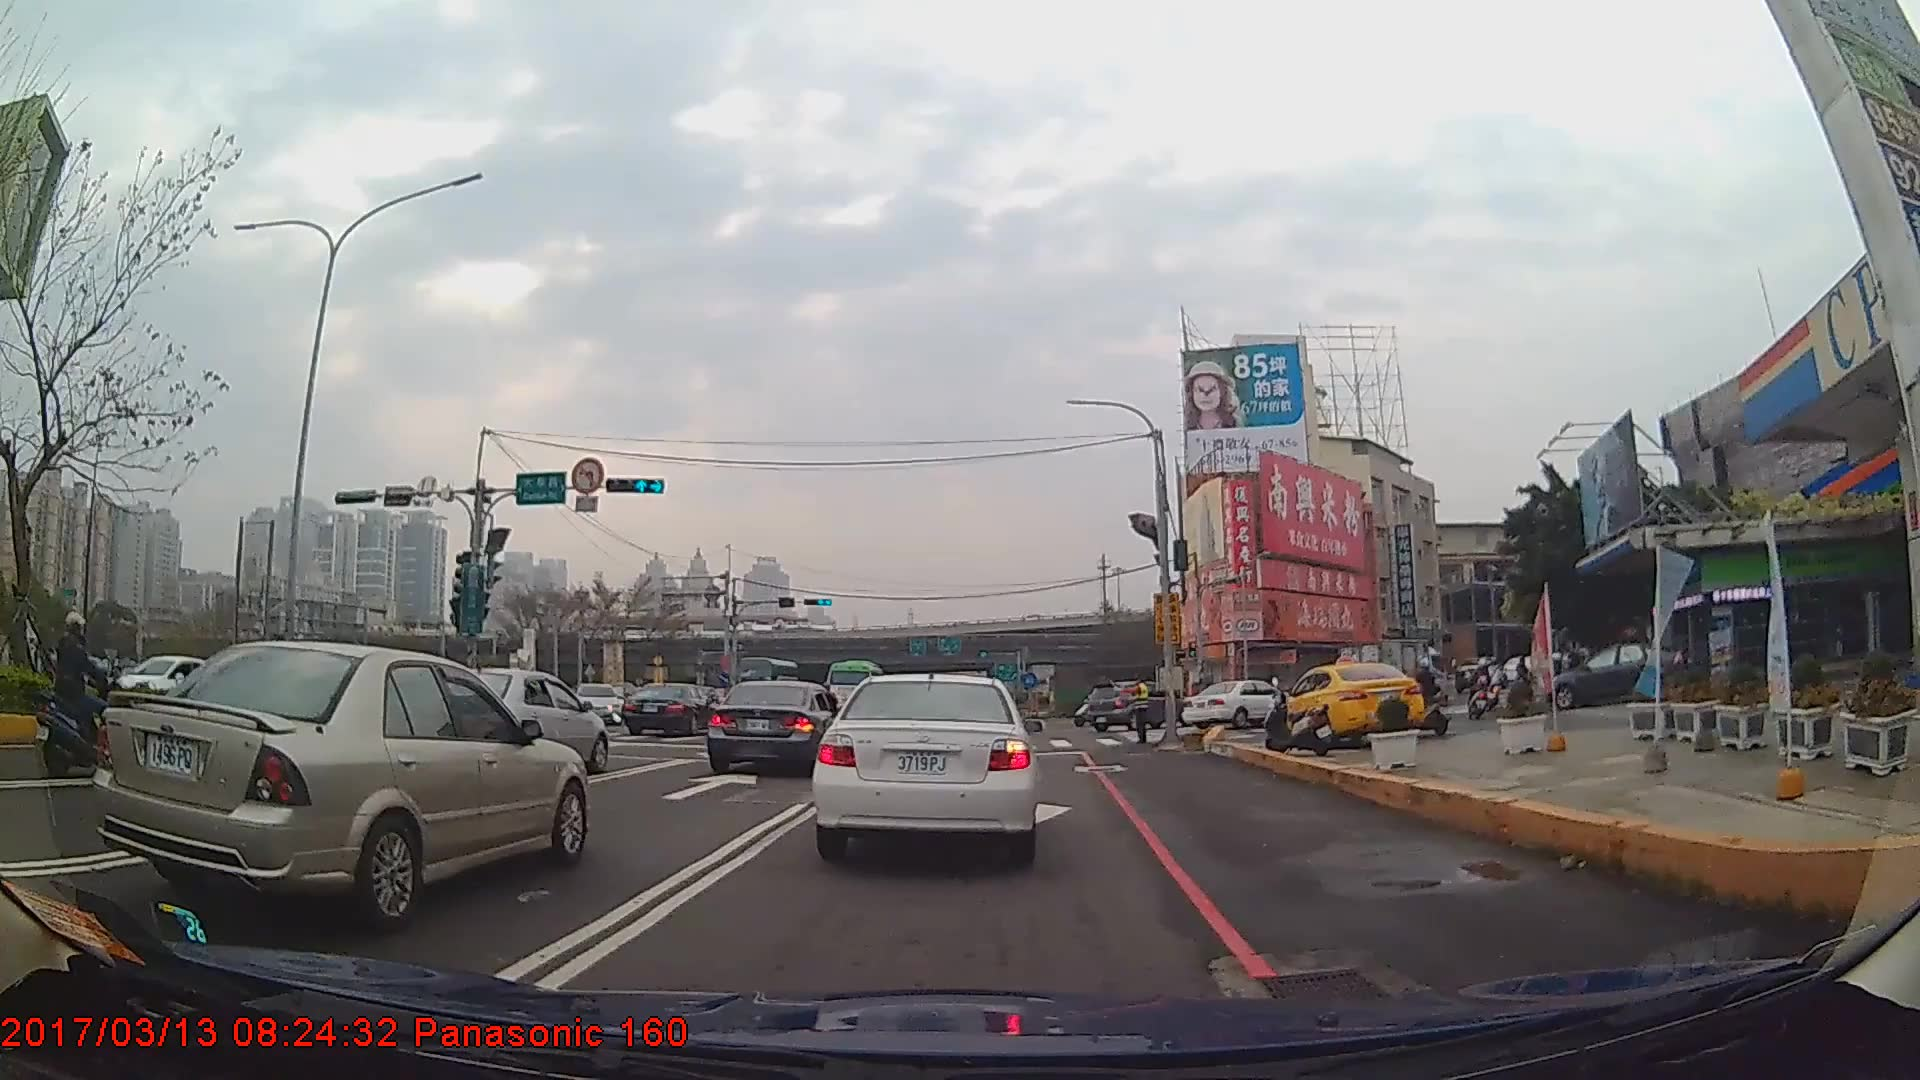pedestrian: (1114, 674, 1153, 746)
rider: (35, 614, 132, 779), (1408, 662, 1450, 740), (1468, 658, 1492, 720)
vehicle: (98, 640, 590, 925), (814, 666, 1038, 862), (420, 668, 608, 776), (703, 677, 845, 778), (1277, 659, 1426, 748), (1545, 642, 1686, 709), (1333, 639, 1450, 710), (1085, 679, 1195, 730), (1181, 680, 1291, 730), (623, 683, 717, 737), (825, 657, 887, 714)
